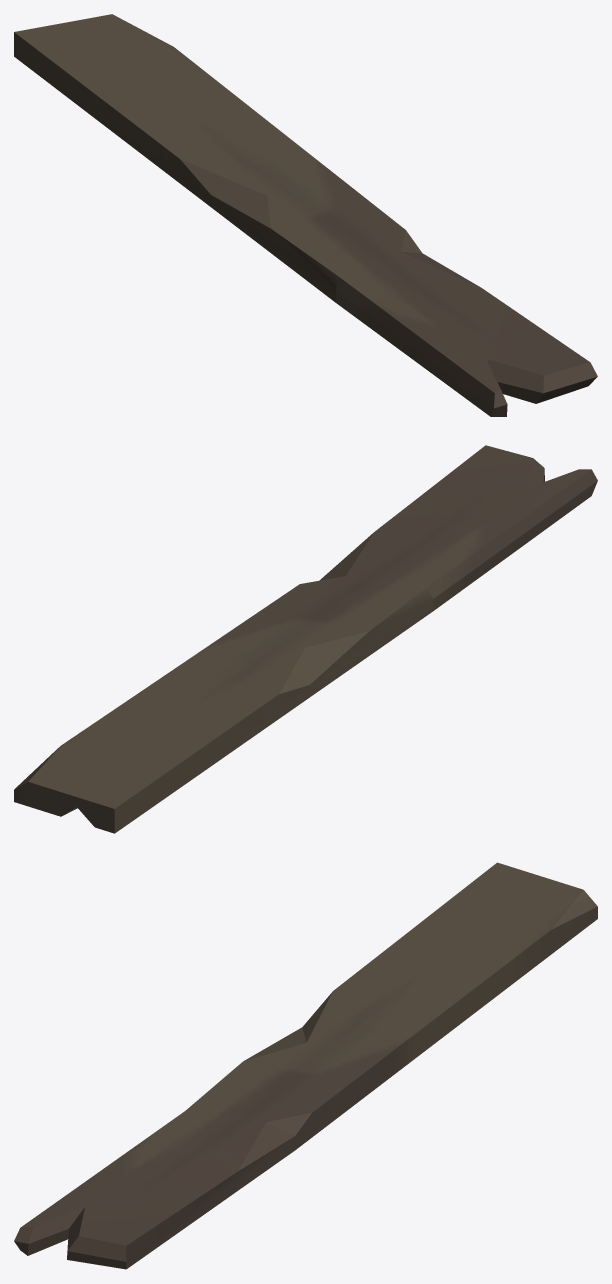
The model's file is SM_Bld_Dock_Plank_09.fbx.
3 views of the same model, one above another, from view 1: azimuth 30°, elevation 25°; view 2: azimuth 150°, elevation 25°; view 3: azimuth 330°, elevation 25° (orthographic).
Parts seen in each view (by area): view 1: SM_Bld_Dock_Plank_09; view 2: SM_Bld_Dock_Plank_09; view 3: SM_Bld_Dock_Plank_09.
Boxes of the visible parts, bbox=[...] form: SM_Bld_Dock_Plank_09: bbox=[14, 14, 597, 416]; SM_Bld_Dock_Plank_09: bbox=[14, 445, 597, 833]; SM_Bld_Dock_Plank_09: bbox=[14, 862, 597, 1269].
Bounding box in the file's own units: 32.8 × 11.02 × 253.
